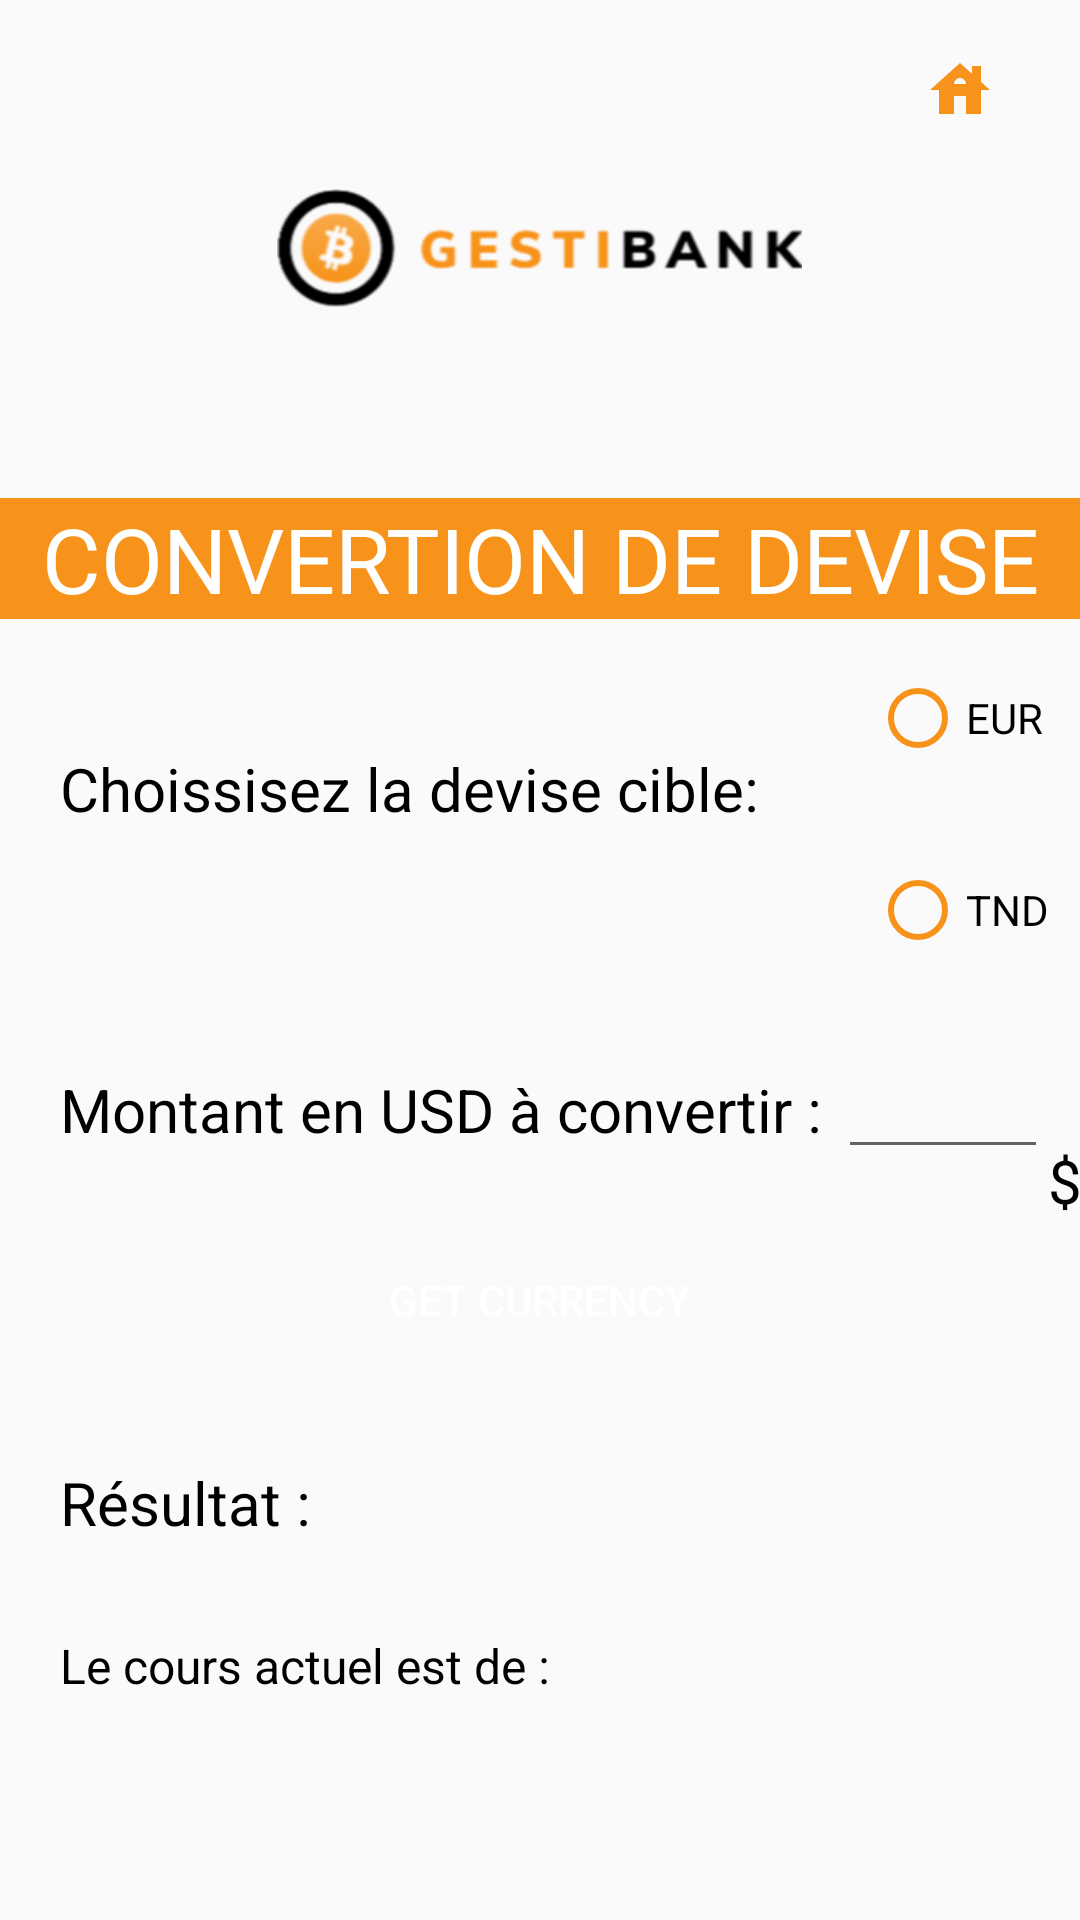

Where to tap for icons on this 1080×1920 app screen, as [x,y]:
house: [960,88]
